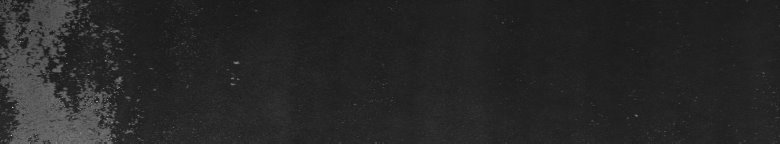kb: (4, 4, 112, 136)
